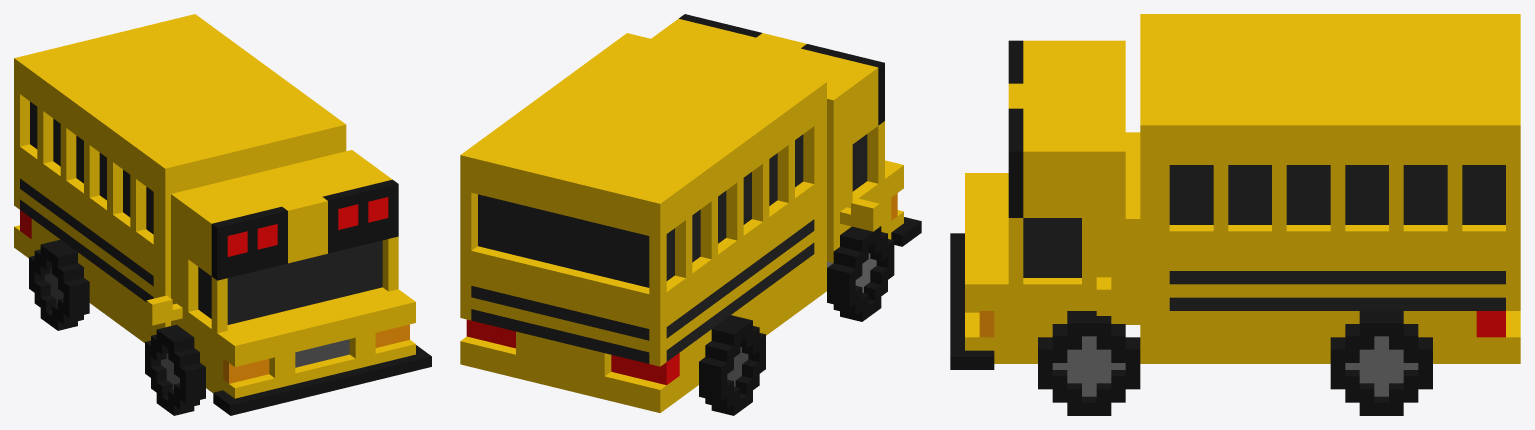
Rendered from yellowtruckassets.vox.obj.
3 renders of one model, left to right at view 1: azimuth 30°, elevation 25°; view 2: azimuth 150°, elevation 25°; view 3: azimuth 270°, elevation 25°, orthographic. The views are drawn at different scales.
Bounding box in the file's own units: 2.4 × 2.1 × 3.9.
1 material, 1 textured.
